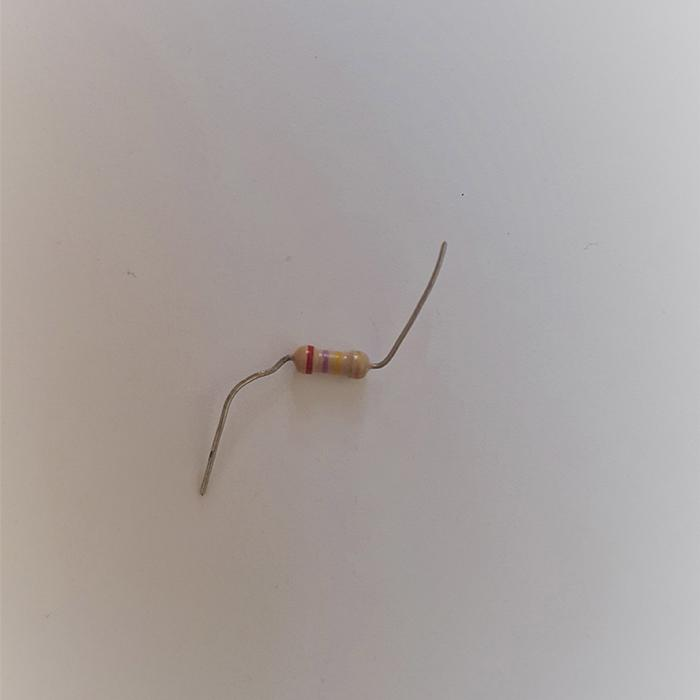resistor: (290, 344, 371, 379)
